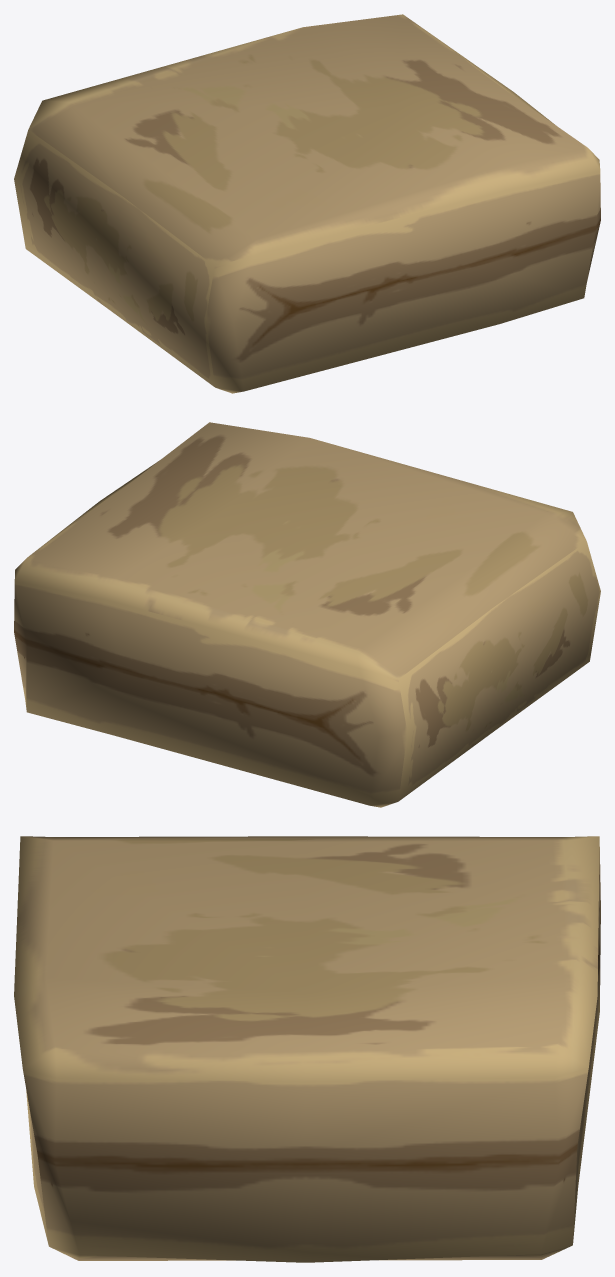
File: SM_PROP_towel_interior_03.fbx
3 views of the same model, one above another, from view 1: azimuth 30°, elevation 25°; view 2: azimuth 150°, elevation 25°; view 3: azimuth 270°, elevation 25° (orthographic). The views are drawn at different scales.
Parts seen in each view (by area): view 1: SM_PROP_towel_interior_03; view 2: SM_PROP_towel_interior_03; view 3: SM_PROP_towel_interior_03.
Boxes of the visible parts, bbox=[...] form: SM_PROP_towel_interior_03: bbox=[14, 14, 600, 393]; SM_PROP_towel_interior_03: bbox=[14, 422, 600, 807]; SM_PROP_towel_interior_03: bbox=[14, 836, 600, 1262].
Size of the model in its own units: 31.04 by 11.94 by 28.39.
